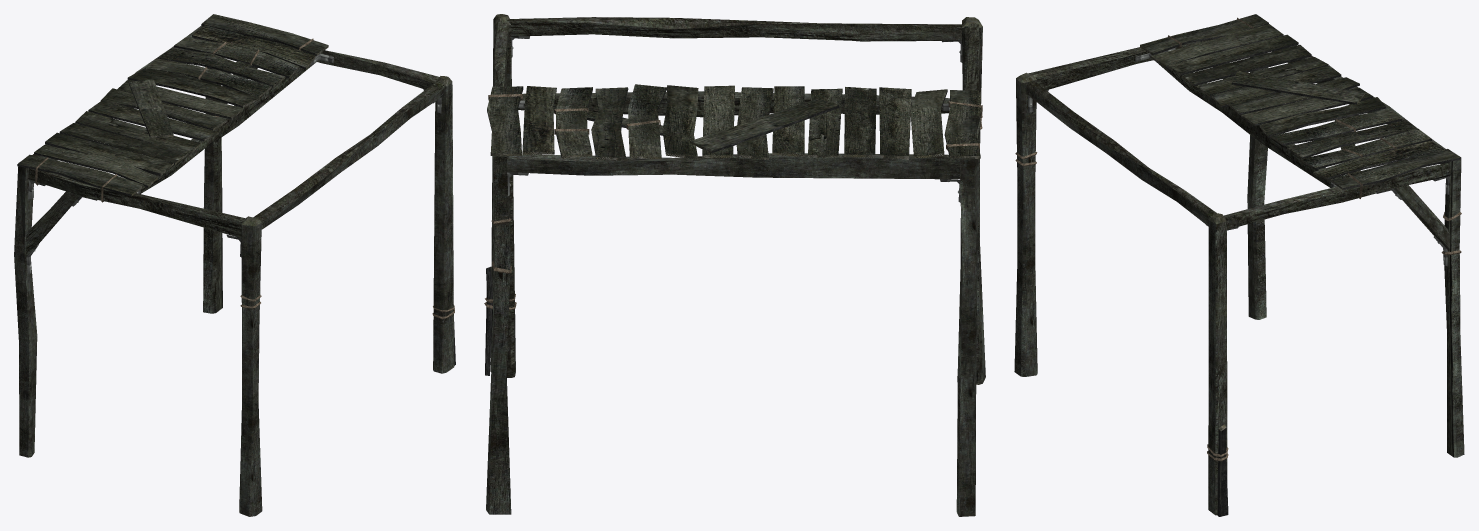
File: rusztowanie.glb
3 views of the same model, side by side, from view 1: azimuth 30°, elevation 25°; view 2: azimuth 150°, elevation 25°; view 3: azimuth 270°, elevation 25° (orthographic). The views are drawn at different scales.
Visible parts, largest first — view 1: zengin01; view 2: zengin01; view 3: zengin01.
Part boxes in pixels (left/top/right/bottom): zengin01: left=14, top=14, right=455, bottom=516; zengin01: left=484, top=14, right=985, bottom=516; zengin01: left=1014, top=14, right=1464, bottom=516.
Size of the model in its own units: 5.87 by 3.99 by 5.36.
Materials: 7 (7 with a texture image).
